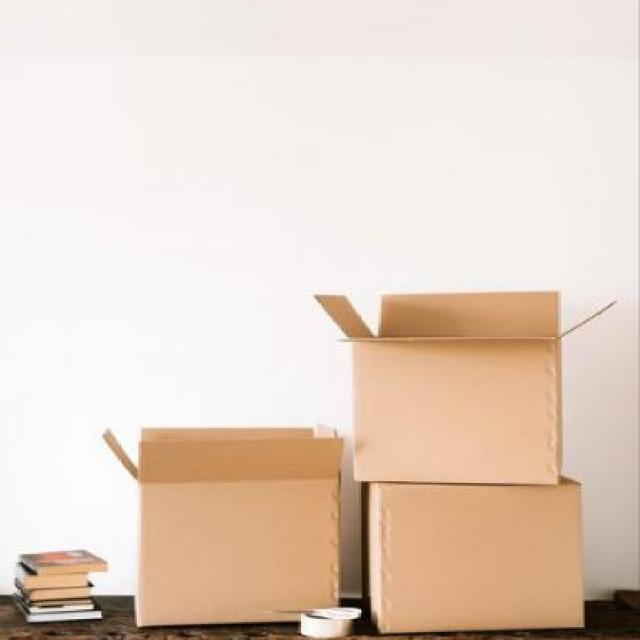box: (124, 409, 359, 626), (343, 277, 574, 488), (363, 481, 599, 630)
